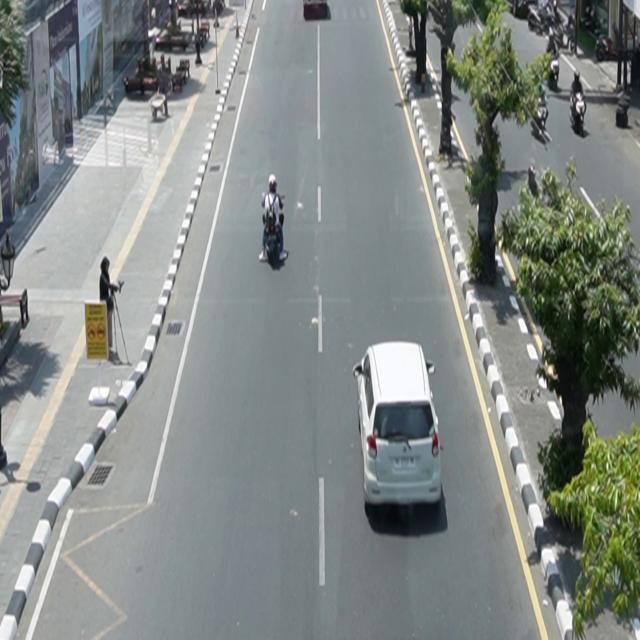car: (354, 341, 444, 511)
